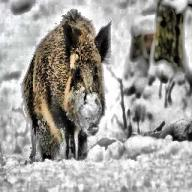boar: (21, 8, 111, 162)
